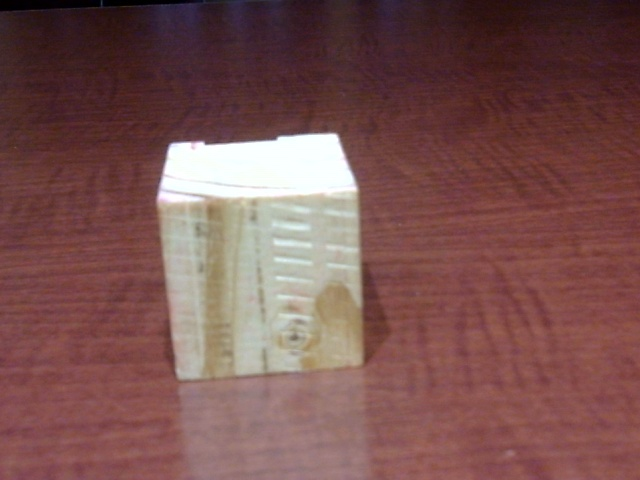NormalBlock: (157, 200, 369, 383)
